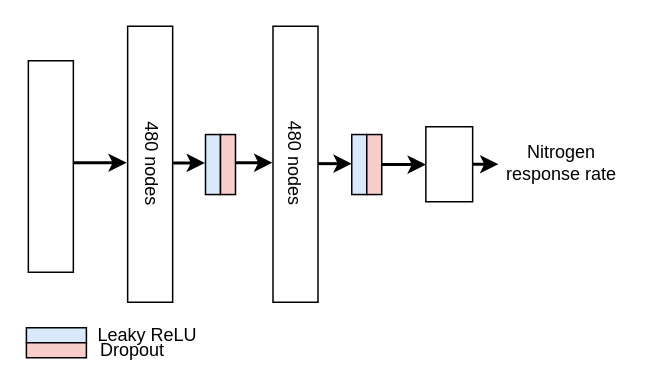
This 648x387 diagram has some shape labels left out. Each missing label, with the centre of its shape:
"1 node" belongs at pixel 448 163.
"Input 425" belongs at pixel 50 165.
